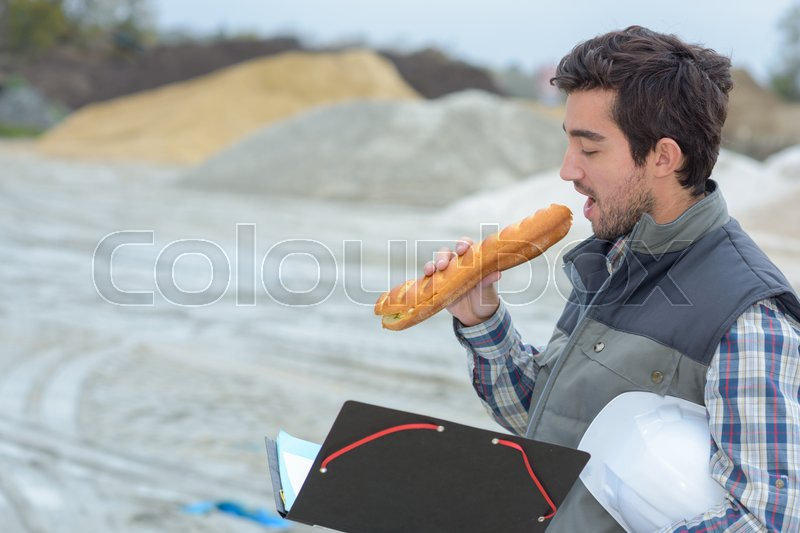eating: (446, 28, 764, 395)
